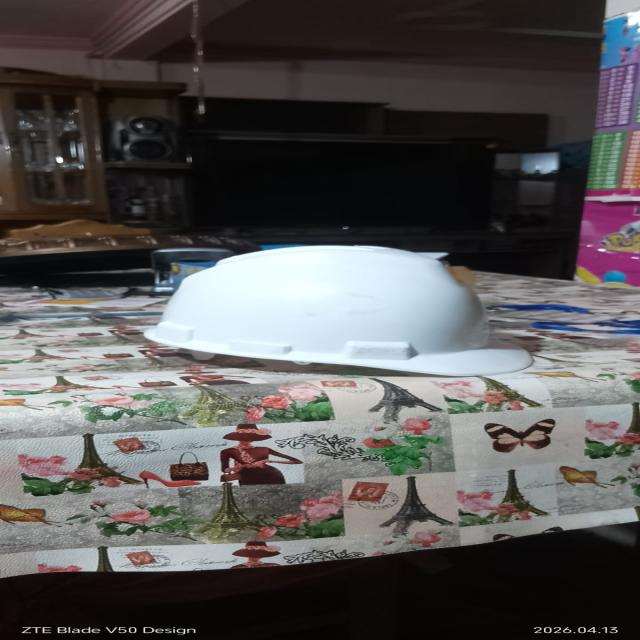casco: (146, 239, 560, 385)
